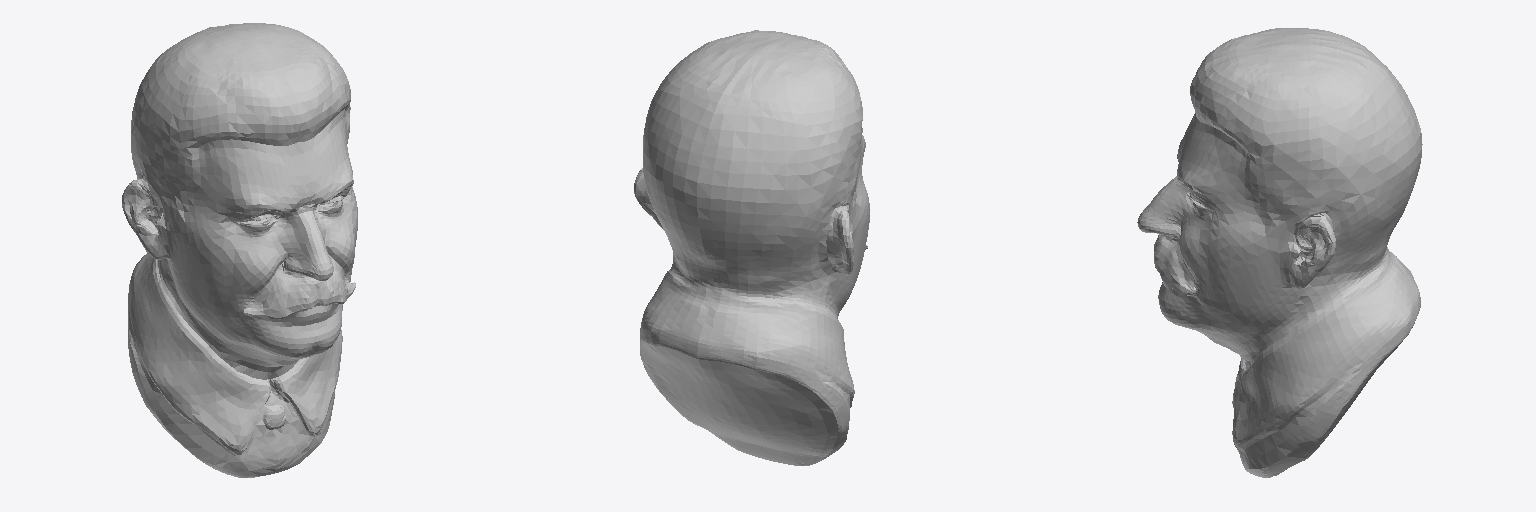
File: stalin2.obj
The picture shows the model from 3 angles: view 1: azimuth 30°, elevation 25°; view 2: azimuth 150°, elevation 25°; view 3: azimuth 270°, elevation 25°; orthographic projection.
Visible parts, largest first — view 1: Stalin_Bust_OBJ_retopo_1subd; view 2: Stalin_Bust_OBJ_retopo_1subd; view 3: Stalin_Bust_OBJ_retopo_1subd.
Part boxes in pixels (left/top/right/bottom): Stalin_Bust_OBJ_retopo_1subd: left=122, top=23, right=357, bottom=477; Stalin_Bust_OBJ_retopo_1subd: left=634, top=30, right=869, bottom=465; Stalin_Bust_OBJ_retopo_1subd: left=1137, top=28, right=1422, bottom=477.
Bounding box in the file's own units: 206 × 387 × 236.